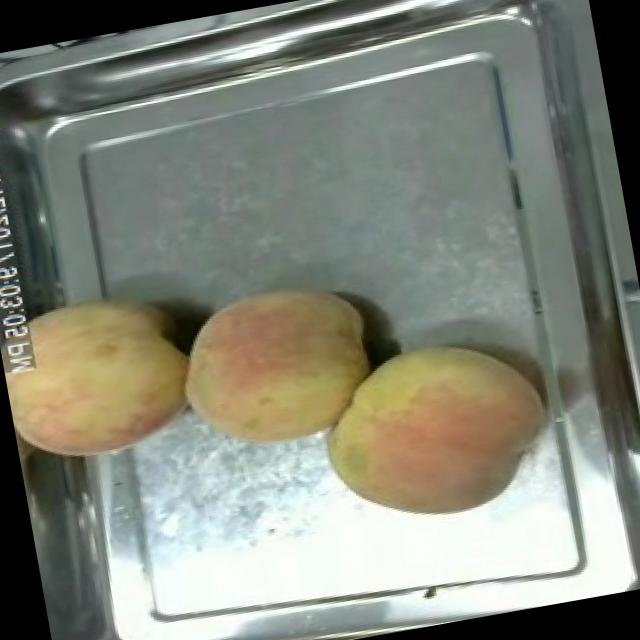Fruit: (306, 315, 564, 542), (165, 262, 390, 466), (0, 270, 208, 478)
